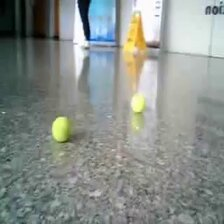tennis: (51, 117, 72, 142), (130, 94, 147, 113)
